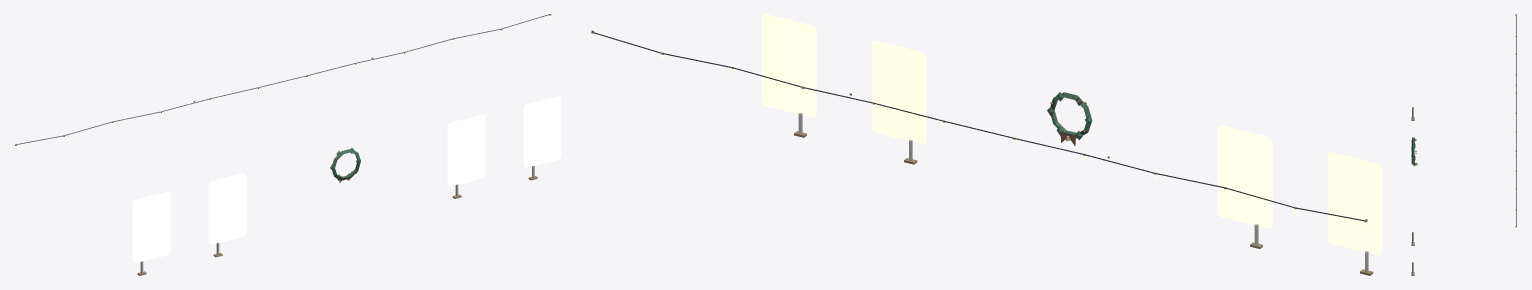
File: house_dress_manor_low.glb
The picture shows the model from 3 angles, left to right: view 1: azimuth 30°, elevation 25°; view 2: azimuth 150°, elevation 25°; view 3: azimuth 270°, elevation 25°; orthographic projection. The views are drawn at different scales.
Bounding box in the file's own units: 9.89 × 1.74 × 2.08.
